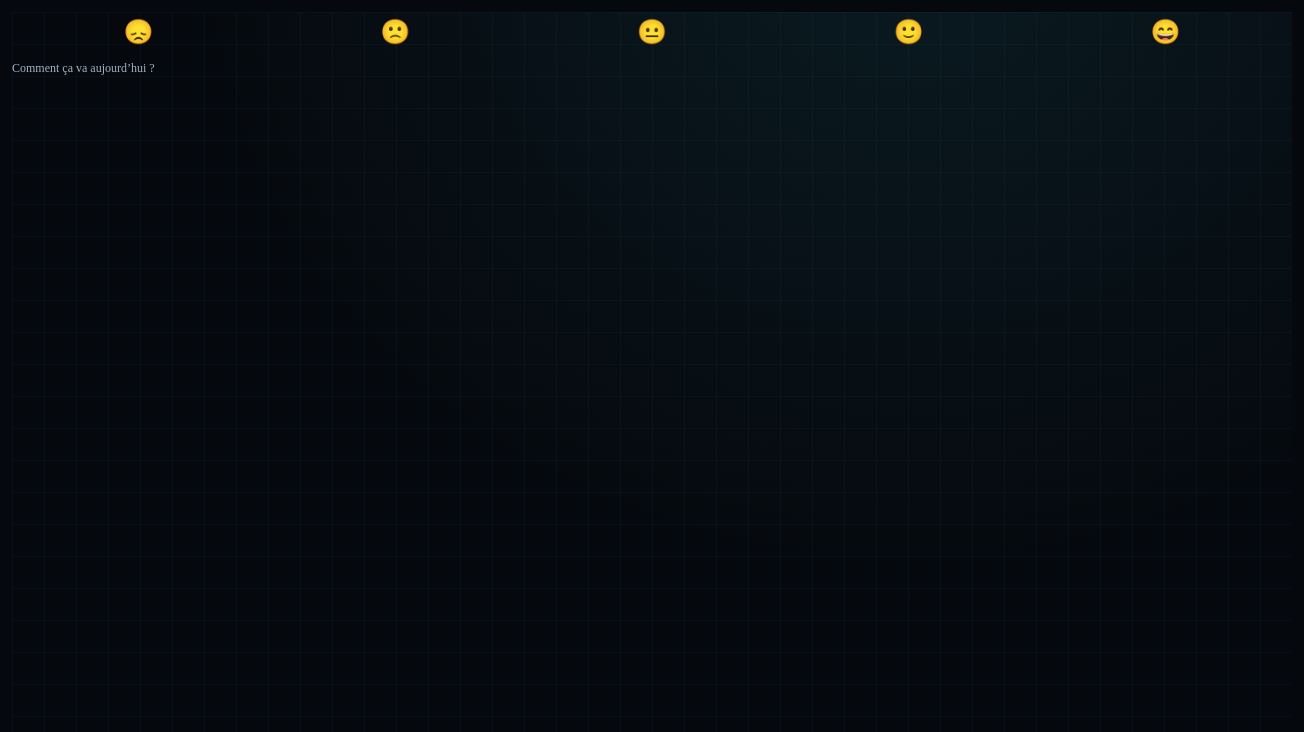
Test: MoodPicker › clic sur une humeur: setMood appelé avec la valeur, radio cochée, champ de note affiché
Click the radio button named "Bien": (909, 32) [782,12,1035,52]
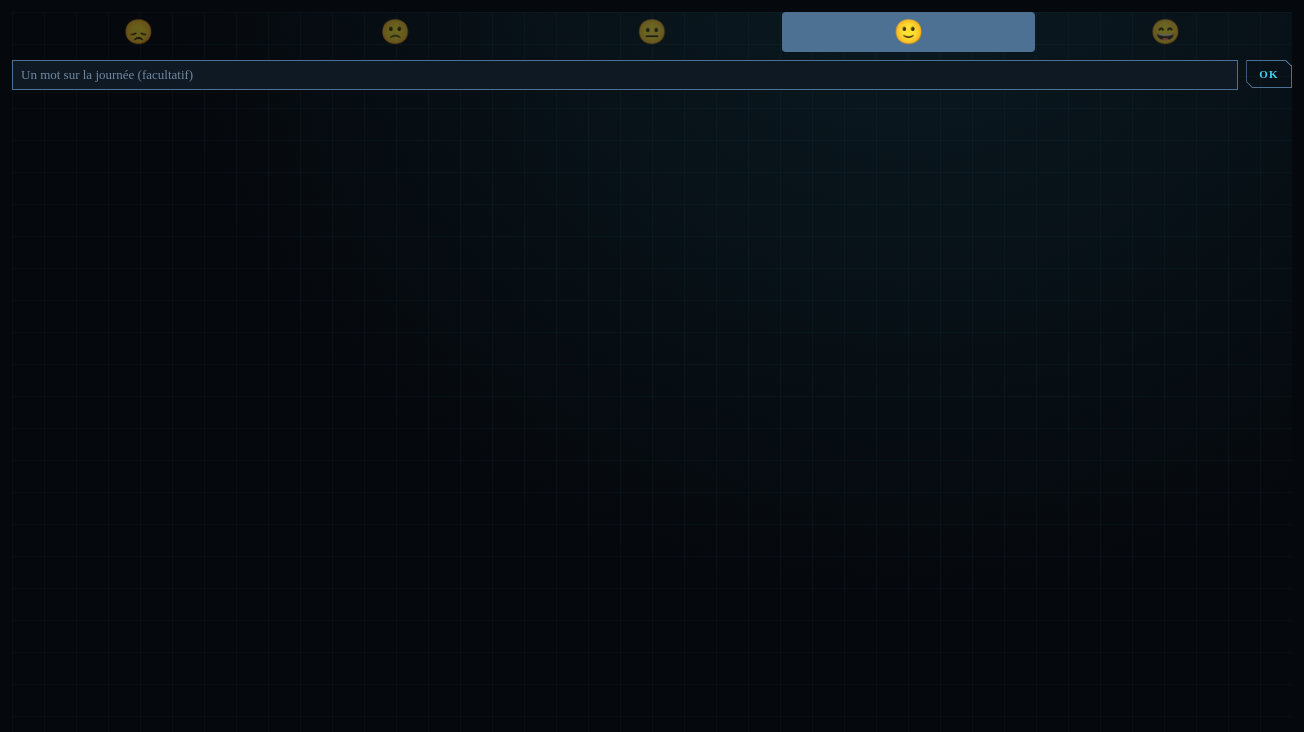
Now the field labelled "Un mot sur la journée" is shown, box [12,60,1238,90]
